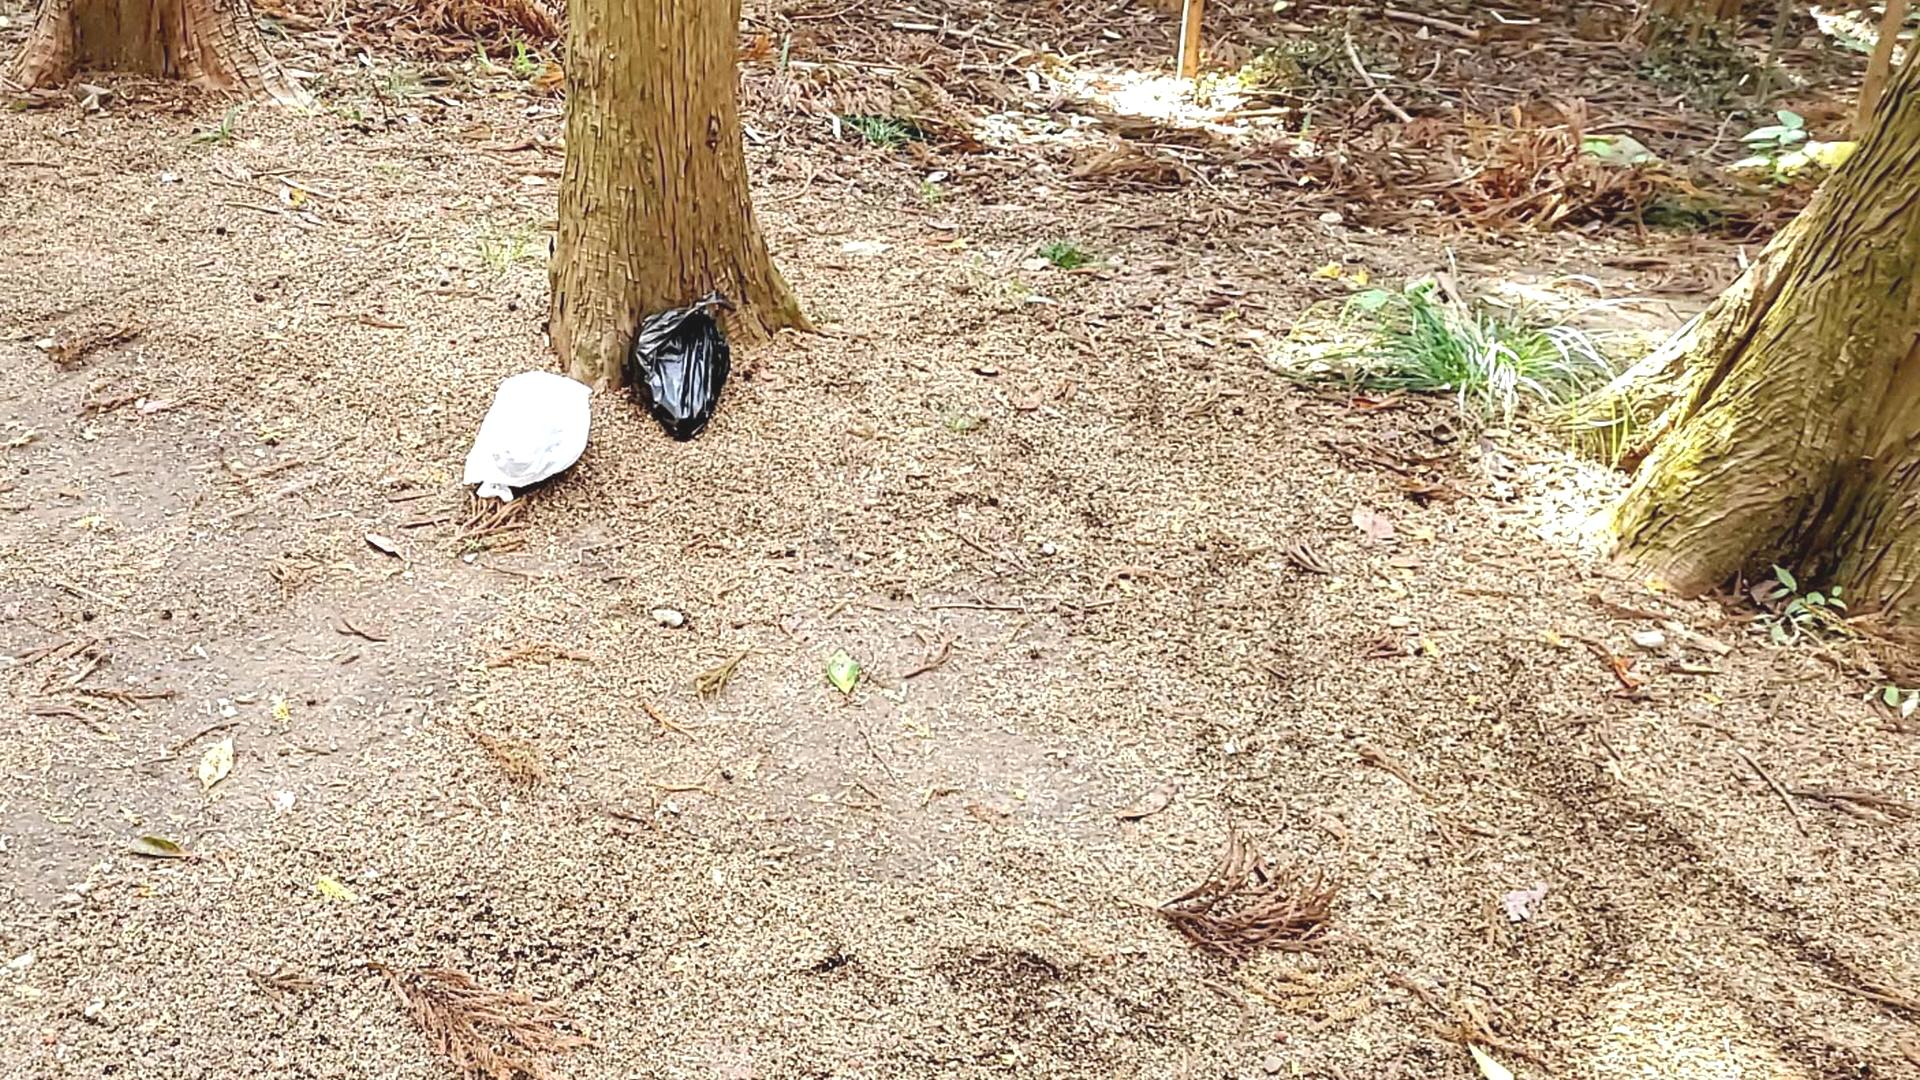black_bag: (626, 284, 749, 446)
white_bag: (454, 364, 597, 510)
